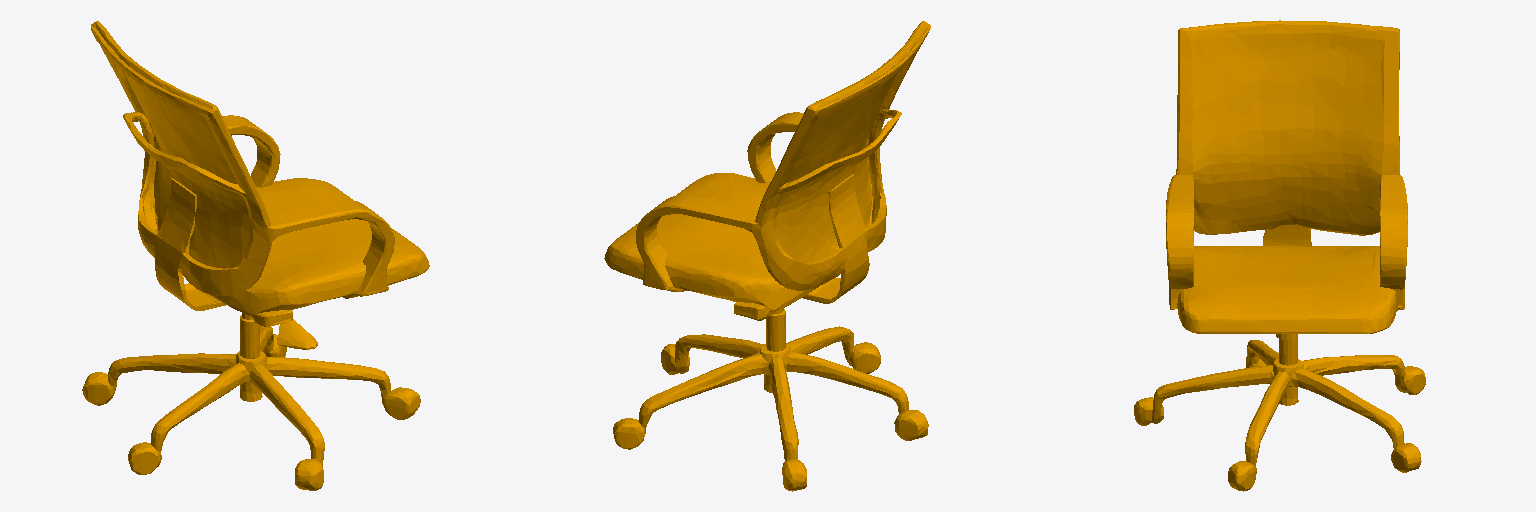
URDF robot description (computer_chair_43):
<?xml version="1.0" ?>
<robot name="computer_chair_43">
   <link name="computer_chair_43">
      <visual>
         <origin xyz="0 0 0" rpy="1.5708 0.0 0.0"/>
         <geometry>
            <mesh filename="mesh/computer_chair_43.obj" scale="1.0 1.0 1.0"/>
         </geometry>
      </visual>
      <collision>
         <origin xyz="0 0 0" rpy="1.5708 0.0 0.0"/>
         <geometry>
            <mesh filename="mesh/computer_chair_43_collision.obj" scale="1.0 1.0 1.0"/>
         </geometry>
         <gazebo>
            <mu1>0.80</mu1>
            <mu2>0.60</mu2>
         </gazebo>
      </collision>
      <inertial>
         <mass value="10.0000"/>
         <origin xyz="0 0 0"/>
         <inertia ixx="1.0" ixy="0.0" ixz="0.0" iyy="1.0" iyz="0.0" izz="1.0"/>
      </inertial>
      <extra_info>
         <scale>1.000000</scale>
         <version>v0.1.5</version>
         <category>computer_chair</category>
         <description>black ergonomic office chair with armrests, mesh backrest, and wheeled base</description>
         <min_height>0.9</min_height>
         <max_height>1.1</max_height>
         <real_height>1.0</real_height>
         <min_mass>8.0</min_mass>
         <max_mass>12.0</max_mass>
         <generate_time>20251021130451</generate_time>
         <gs_model>mesh/computer_chair_43_gs.ply</gs_model>
      </extra_info>
   </link>
   <custom_data>
      <quality>
         <MeshGeoChecker>YES</MeshGeoChecker>
         <ImageSegChecker>YES</ImageSegChecker>
         <ImageAestheticChecker>4.922396302223206</ImageAestheticChecker>
         <overall>YES</overall>
      </quality>
   </custom_data>
</robot>

--- Facts derived from the render (not from the file) ---
Views: 3 orthographic renders of the robot side by side, from view 1: azimuth 30°, elevation 25°; view 2: azimuth 150°, elevation 25°; view 3: azimuth 270°, elevation 25°.
Robot: computer_chair_43 — 1 links, 0 joints (none); root link computer_chair_43; default pose: all joints at 0.
Links seen in each view (by area): view 1: computer_chair_43; view 2: computer_chair_43; view 3: computer_chair_43.
Link boxes in pixels (<box>): computer_chair_43: <box>82,21,429,490</box>; computer_chair_43: <box>604,21,930,491</box>; computer_chair_43: <box>1134,20,1425,491</box>.
Bounding box of the posed robot: 0.7567 × 0.7334 × 1 m (x, y, z).
1 mesh visuals loaded from 1 distinct referenced files (1 OBJ).
